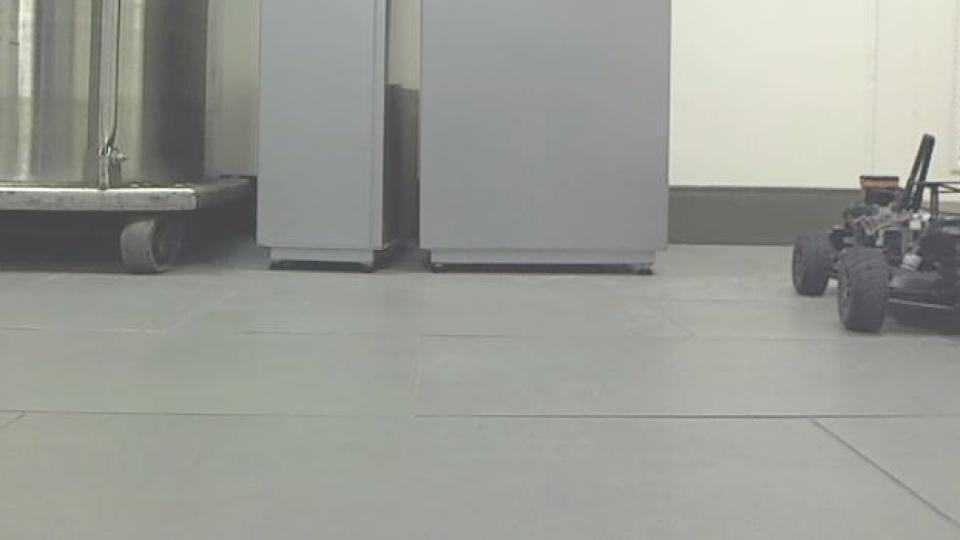car: (787, 131, 960, 338)
